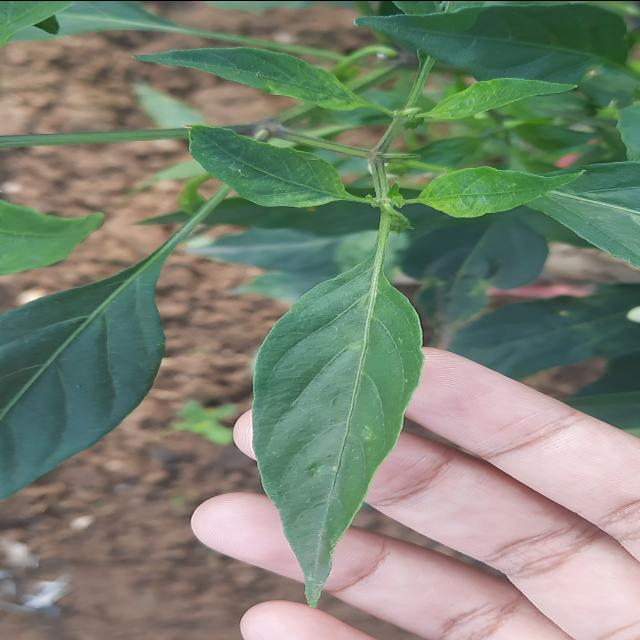sehat: (246, 278, 426, 612), (0, 250, 174, 496)
